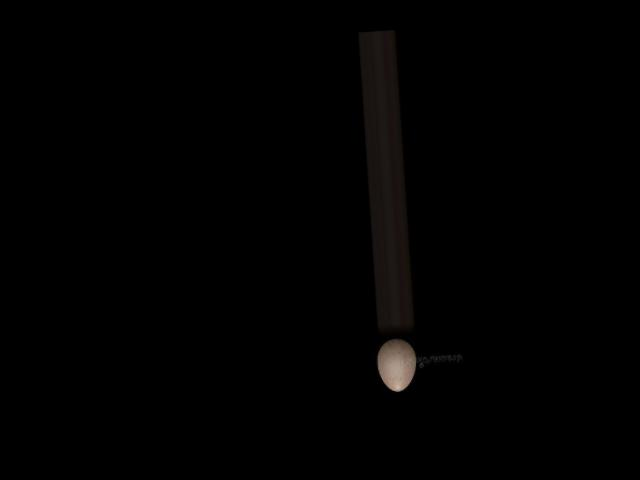egg: (375, 337, 417, 392)
